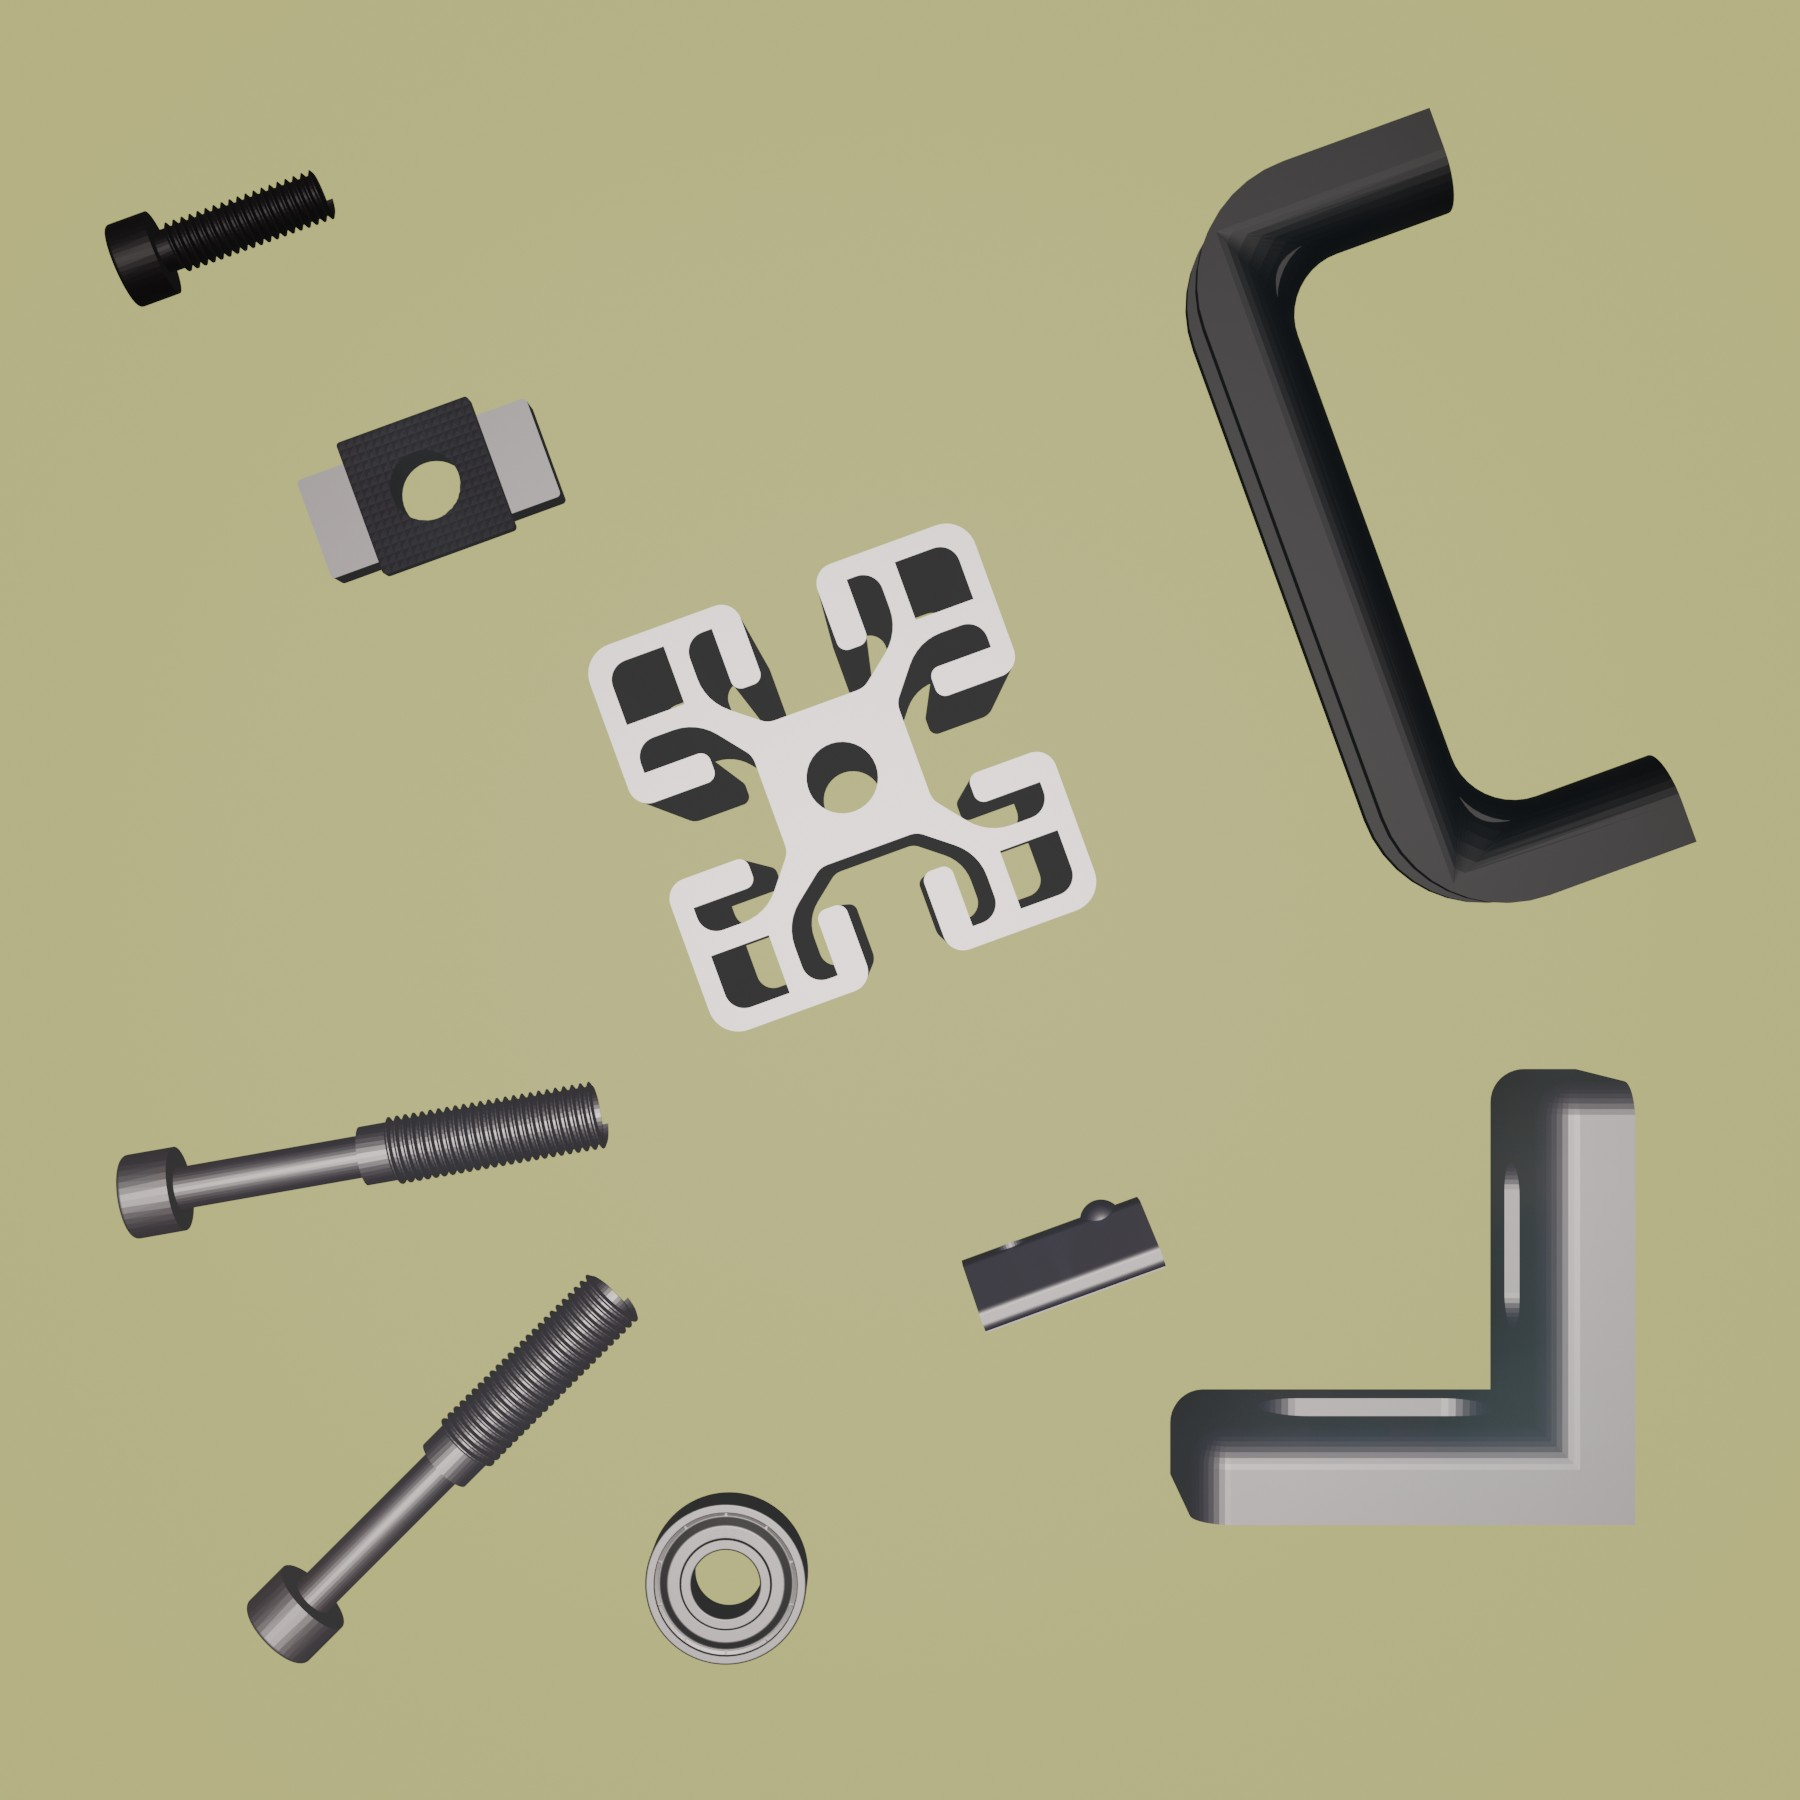Aluminium Extension: (587, 519, 1101, 1038)
Ball Bearing: (643, 1488, 811, 1670)
Multiwinkel: (1167, 1062, 1643, 1531)
Pull Handle: (1184, 102, 1699, 905)
Shoulder Socket Head Cap Screw: (247, 1273, 641, 1666), (112, 1076, 612, 1241)
Socket Head Cap Screw: (102, 163, 340, 308)
T Nut Square: (297, 391, 565, 587)
T Spring Nut: (958, 1188, 1165, 1337)
